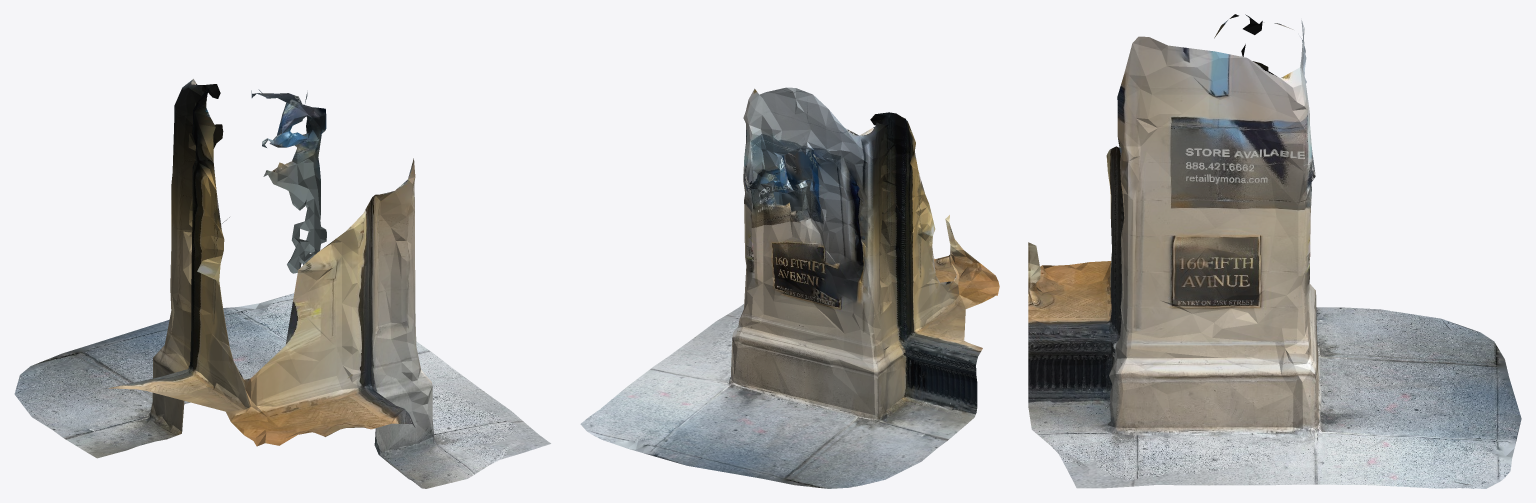
3 views of the same model, side by side, from view 1: azimuth 30°, elevation 25°; view 2: azimuth 150°, elevation 25°; view 3: azimuth 270°, elevation 25° (orthographic). The views are drawn at different scales.
Bounding box in the file's own units: 3.49 × 3.72 × 4.14.
Materials: 1 (1 with a texture image).
